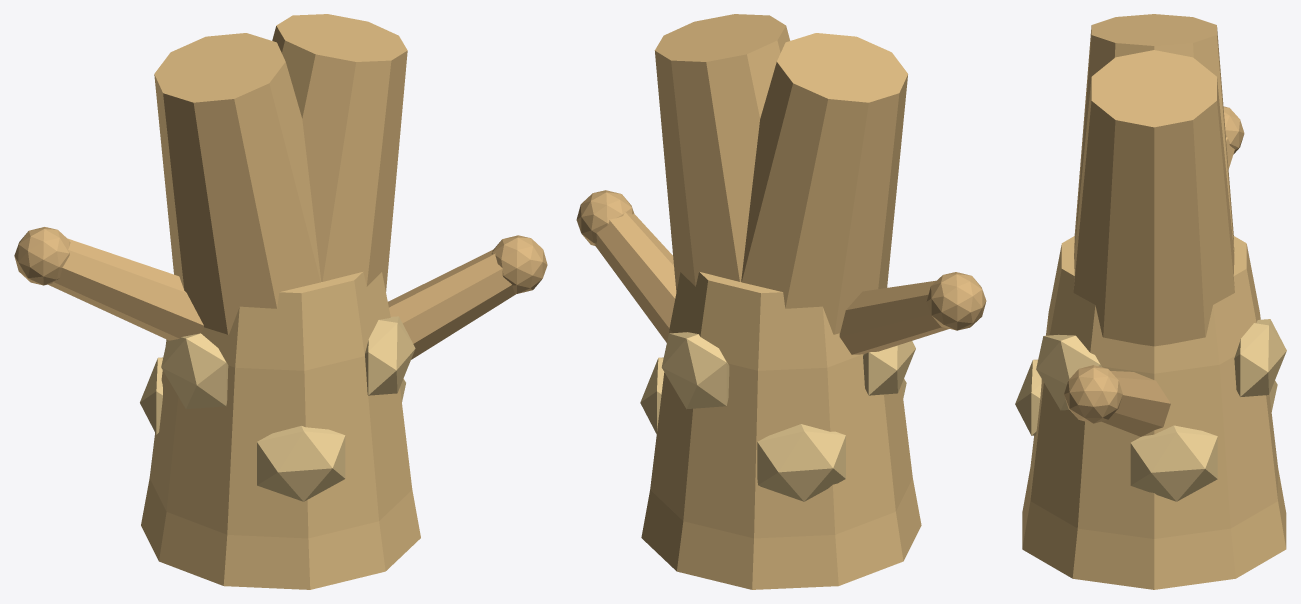
Rendered from MapleTrunk.glb.
The picture shows the model from 3 angles, left to right: view 1: azimuth 30°, elevation 25°; view 2: azimuth 150°, elevation 25°; view 3: azimuth 270°, elevation 25°; orthographic projection.
Visible parts, largest first — view 1: MapleTrunk_MapleLimbs, MapleTrunk_MapleBark, MapleTrunk_MapleStubs, MapleTrunk_MaplePlates; view 2: MapleTrunk_MapleLimbs, MapleTrunk_MapleBark, MapleTrunk_MapleStubs, MapleTrunk_MaplePlates; view 3: MapleTrunk_MapleBark, MapleTrunk_MapleLimbs, MapleTrunk_MaplePlates, MapleTrunk_MapleStubs.
Boxes of the visible parts, x1=… form: MapleTrunk_MapleLimbs: x1=154, y1=14, x2=407, y2=334; MapleTrunk_MapleBark: x1=141, y1=272, x2=420, y2=589; MapleTrunk_MapleStubs: x1=14, y1=227, x2=547, y2=359; MapleTrunk_MaplePlates: x1=140, y1=316, x2=415, y2=501; MapleTrunk_MapleLimbs: x1=654, y1=14, x2=907, y2=334; MapleTrunk_MapleBark: x1=641, y1=271, x2=921, y2=589; MapleTrunk_MapleStubs: x1=576, y1=190, x2=986, y2=354; MapleTrunk_MaplePlates: x1=640, y1=332, x2=915, y2=501; MapleTrunk_MapleBark: x1=1022, y1=236, x2=1286, y2=589; MapleTrunk_MapleLimbs: x1=1073, y1=14, x2=1234, y2=346; MapleTrunk_MaplePlates: x1=1015, y1=319, x2=1286, y2=501; MapleTrunk_MapleStubs: x1=1064, y1=106, x2=1244, y2=436.
Bounding box in the file's own units: 3.04 × 3.07 × 1.57.
